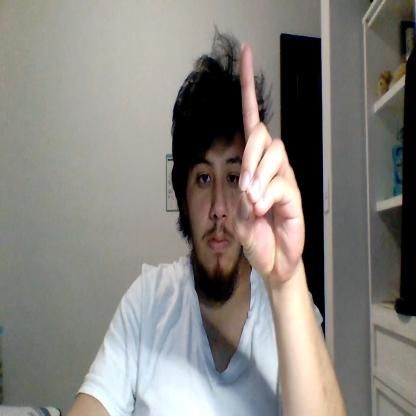D: (232, 46, 304, 278)
